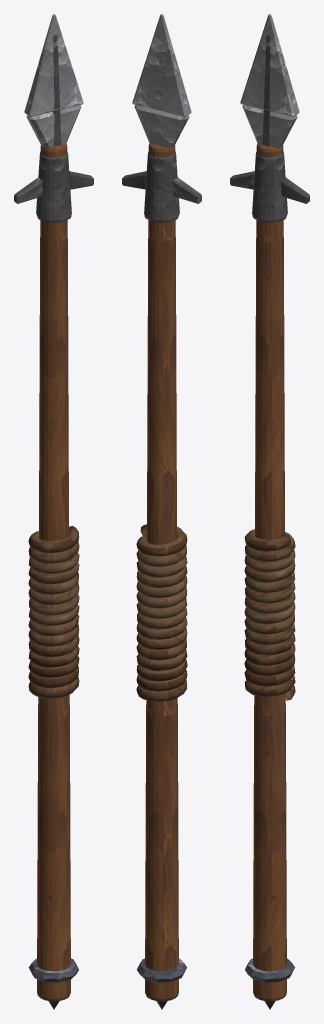
Rendered from spear_silver.glb.
3 renders of one model, left to right at view 1: azimuth 30°, elevation 25°; view 2: azimuth 150°, elevation 25°; view 3: azimuth 330°, elevation 25°, orthographic.
Visible parts, largest first — view 1: model; view 2: model; view 3: model.
Boxes of the visible parts, left/top/right/bottom form: model: left=14, top=14, right=93, bottom=1009; model: left=122, top=14, right=201, bottom=1009; model: left=230, top=14, right=309, bottom=1009.
Size of the model in its own units: 0.12 by 1.47 by 0.069.
6 materials, 6 textured.
